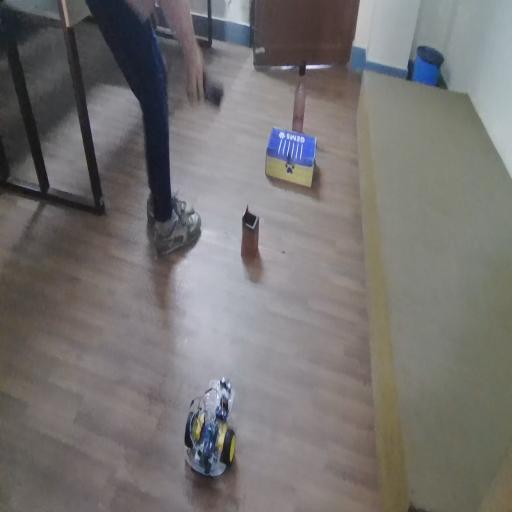Bottle: (291, 64, 316, 138)
car: (178, 381, 265, 509)
